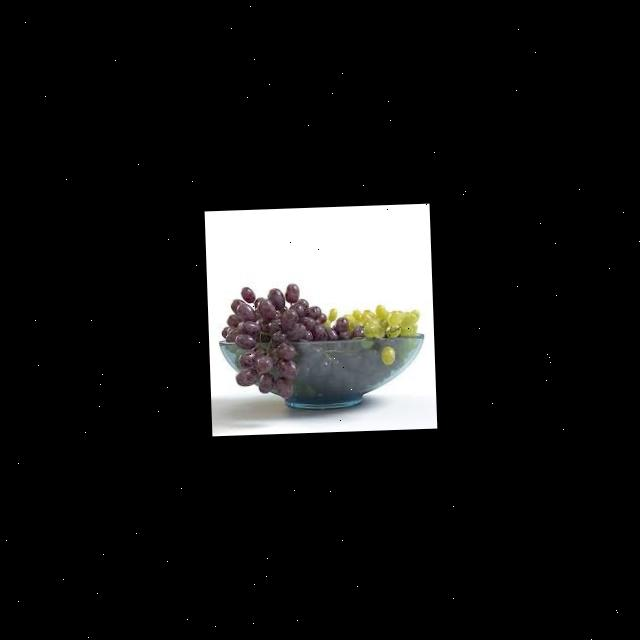grape: (218, 281, 332, 396), (332, 294, 424, 340)
